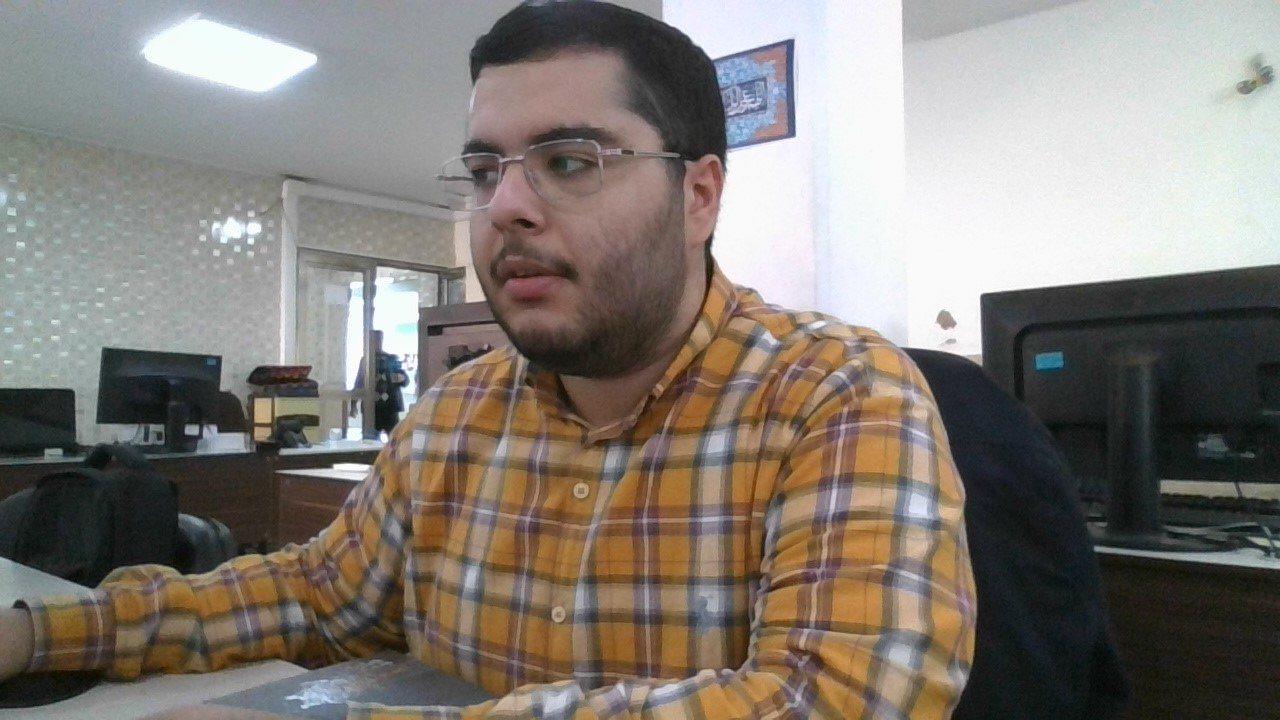NoMask: (467, 192, 691, 377)
